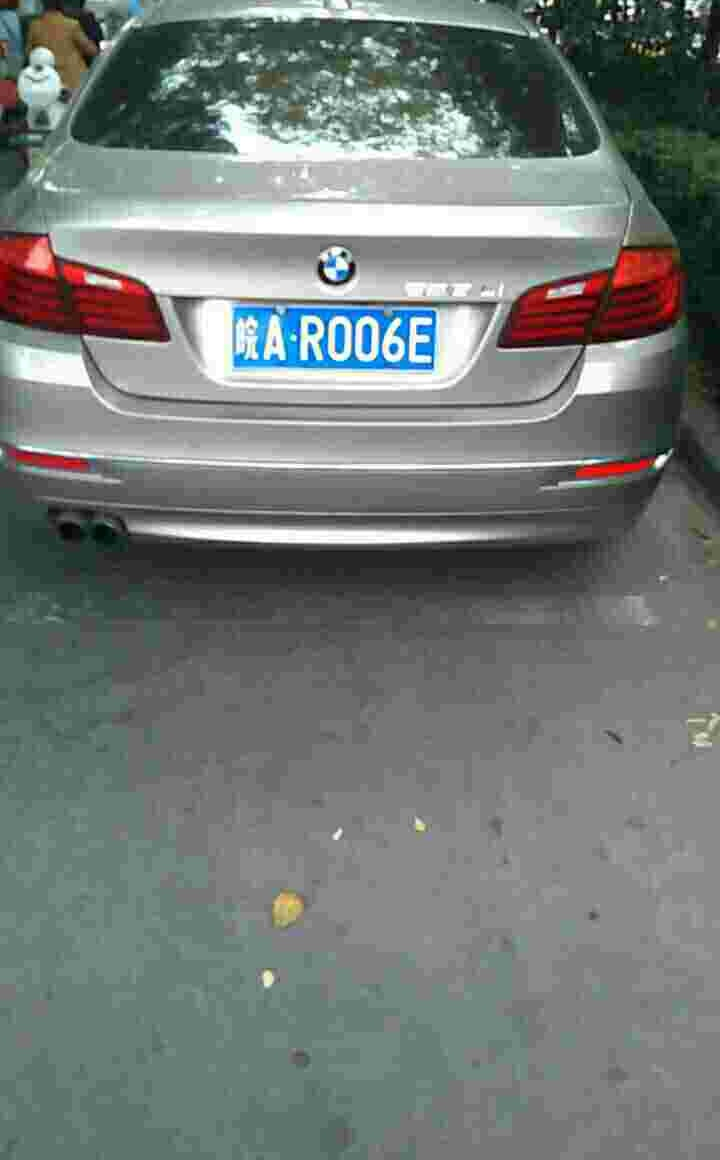license_plate: (234, 301, 429, 374)
